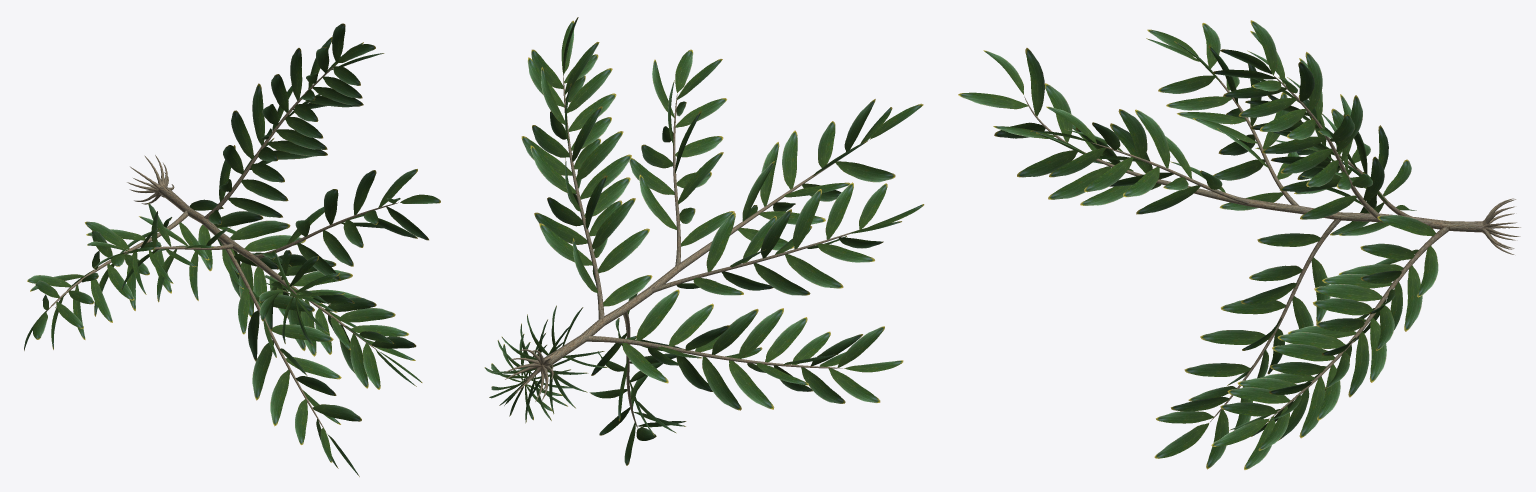
Rendered from tree1.obj.
3 views of the same model, side by side, from view 1: azimuth 30°, elevation 25°; view 2: azimuth 150°, elevation 25°; view 3: azimuth 270°, elevation 25° (orthographic). The views are drawn at different scales.
Bounding box in the file's own units: 0.3488 × 0.369 × 0.401.
2 materials, 2 textured.
